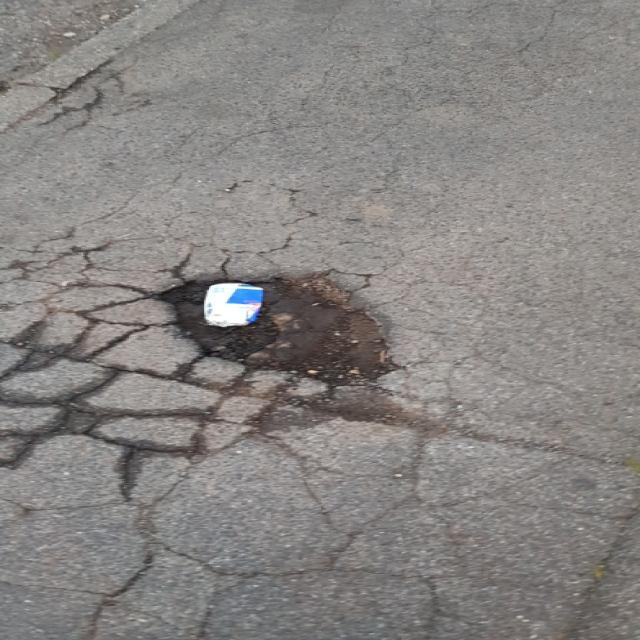Pothole: (140, 267, 405, 390)
